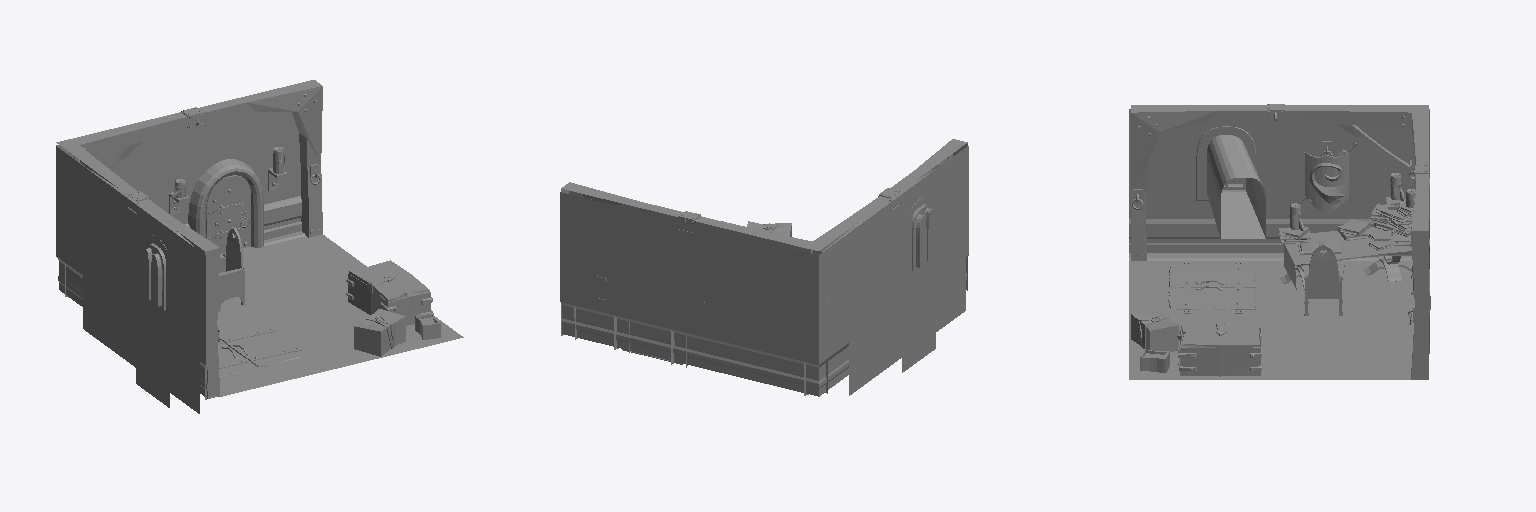
The model's file is room.obj.
3 views of the same model, side by side, from view 1: azimuth 30°, elevation 25°; view 2: azimuth 150°, elevation 25°; view 3: azimuth 270°, elevation 25° (orthographic).
Parts seen in each view (by area): view 1: scene.unity_32; view 2: scene.unity_32; view 3: scene.unity_32.
Boxes of the visible parts, box(x1,y1,x2,y2) form: scene.unity_32: box(56, 80, 463, 413); scene.unity_32: box(560, 139, 968, 396); scene.unity_32: box(1129, 104, 1430, 379).
Bounding box in the file's own units: 51.76 × 34.11 × 50.88.